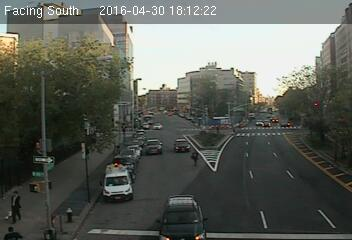neg: (176, 200, 199, 230), (265, 159, 279, 177), (59, 203, 72, 222), (201, 119, 214, 136), (253, 117, 265, 132), (126, 159, 136, 171)
pos: (1, 188, 25, 222), (187, 149, 201, 168), (6, 225, 16, 239)
